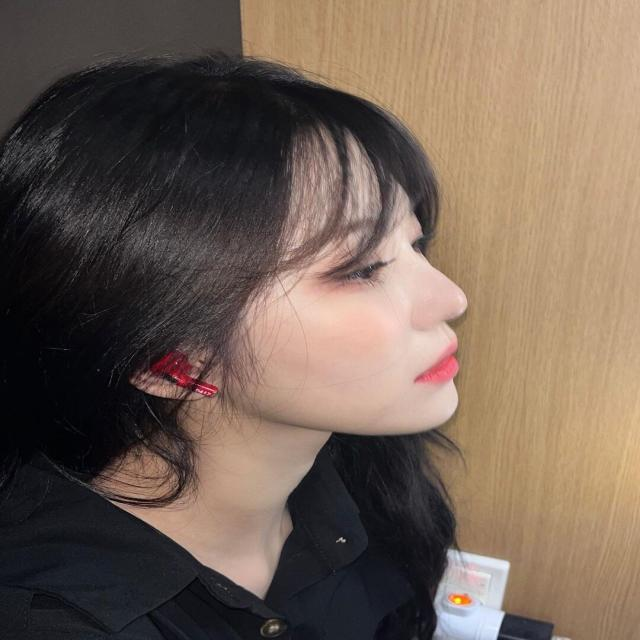earphone: (160, 342, 235, 443)
